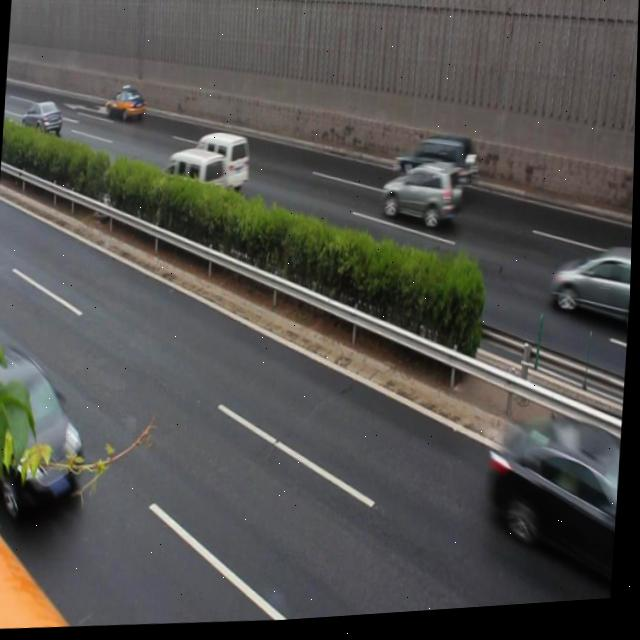car: (485, 412, 625, 597), (0, 345, 92, 520), (549, 255, 633, 344), (379, 168, 462, 238), (393, 142, 477, 210), (103, 90, 146, 124)
truck: (156, 150, 226, 223), (182, 133, 253, 197)
